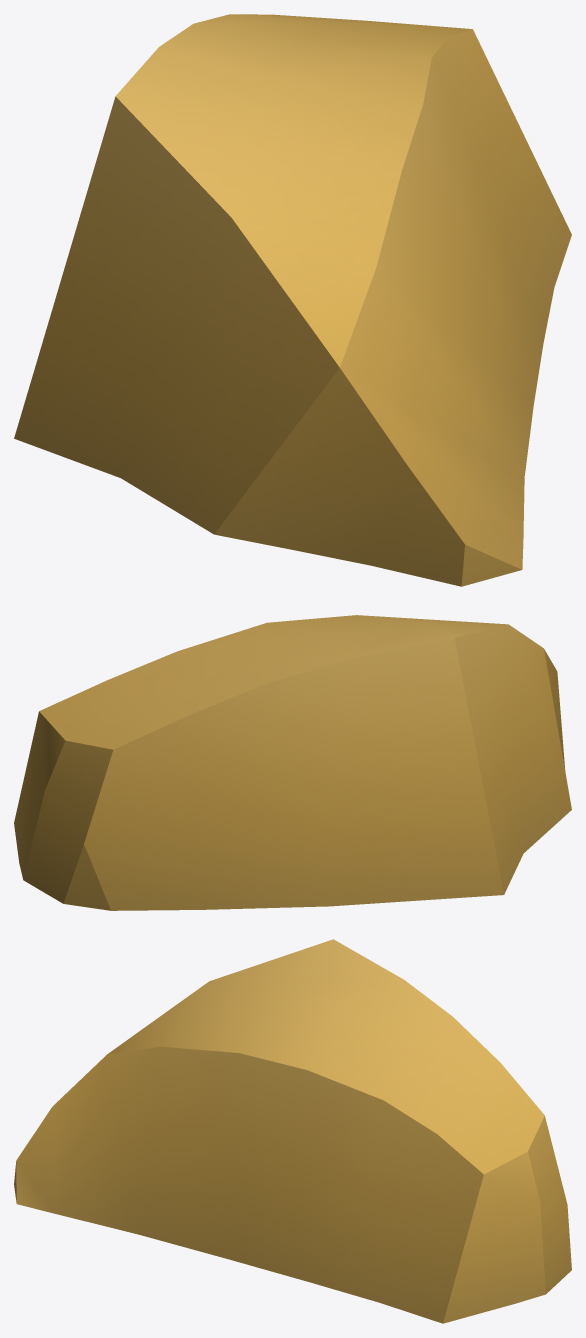
The model's file is Forest_Stone_006.FBX.
3 views of the same model, one above another, from view 1: azimuth 30°, elevation 25°; view 2: azimuth 150°, elevation 25°; view 3: azimuth 270°, elevation 25° (orthographic). The views are drawn at different scales.
Visible parts, largest first — view 1: Forest_Stone_006; view 2: Forest_Stone_006; view 3: Forest_Stone_006.
Part boxes in pixels (x1,y1,x2,y2): Forest_Stone_006: (14,14,571,586); Forest_Stone_006: (14,615,571,910); Forest_Stone_006: (14,939,571,1323).
Size of the model in its own units: 347 by 176 by 415.
Materials: 1 (1 with a texture image).
